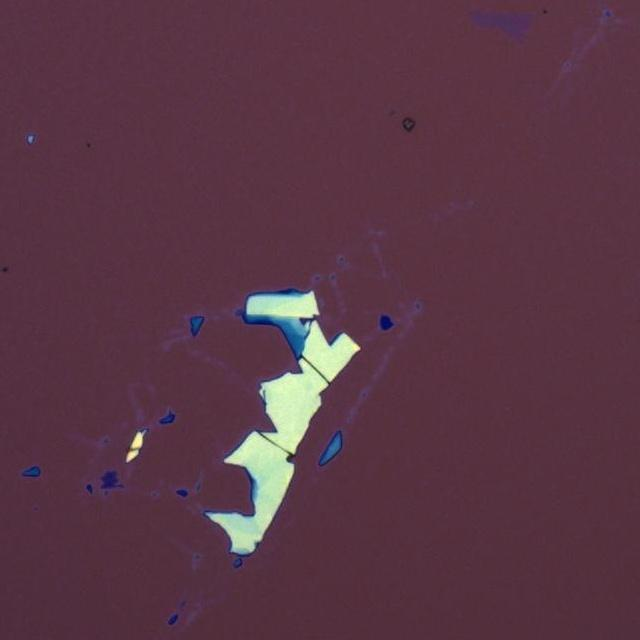monolayer-eWW4: (470, 9, 534, 44)
